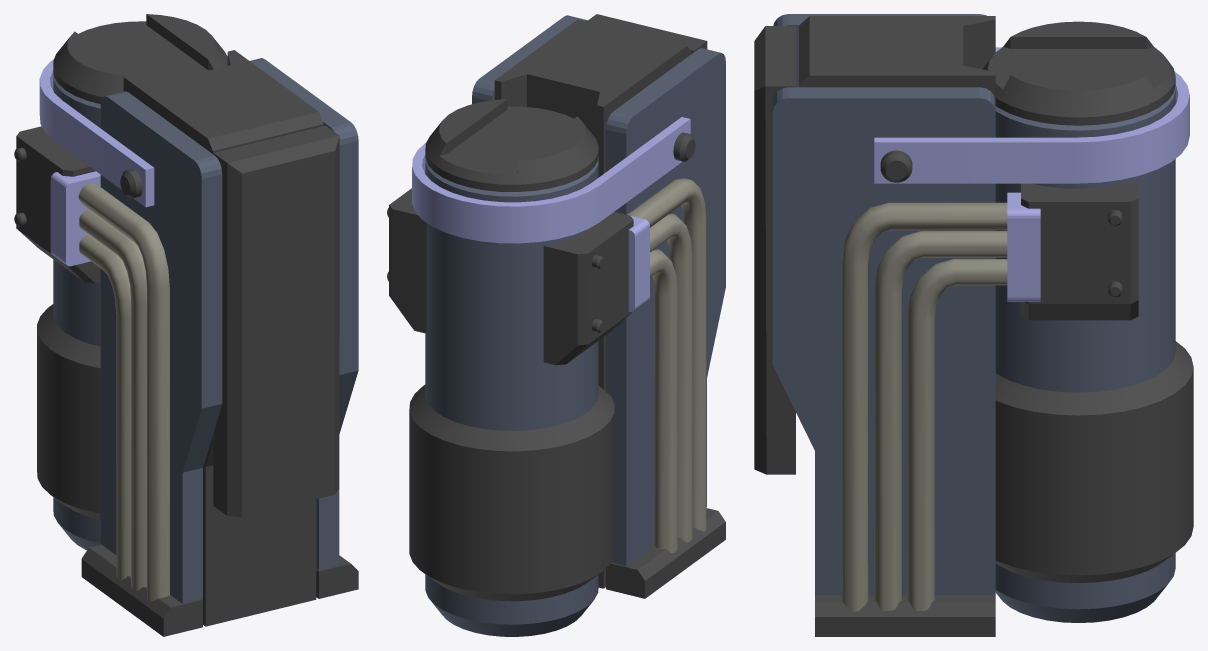
File: Single Pillar.glb
The picture shows the model from 3 angles, left to right: view 1: azimuth 30°, elevation 25°; view 2: azimuth 150°, elevation 25°; view 3: azimuth 270°, elevation 25°; orthographic projection. The views are drawn at different scales.
Parts seen in each view (by area): view 1: Single Pillar; view 2: Single Pillar; view 3: Single Pillar.
Part boxes in pixels (box(x1,y1,x2,y2)): Single Pillar: box(14, 14, 358, 636); Single Pillar: box(387, 14, 725, 636); Single Pillar: box(754, 14, 1193, 636).
Bounding box in the file's own units: 1.41 × 3.08 × 2.26.
